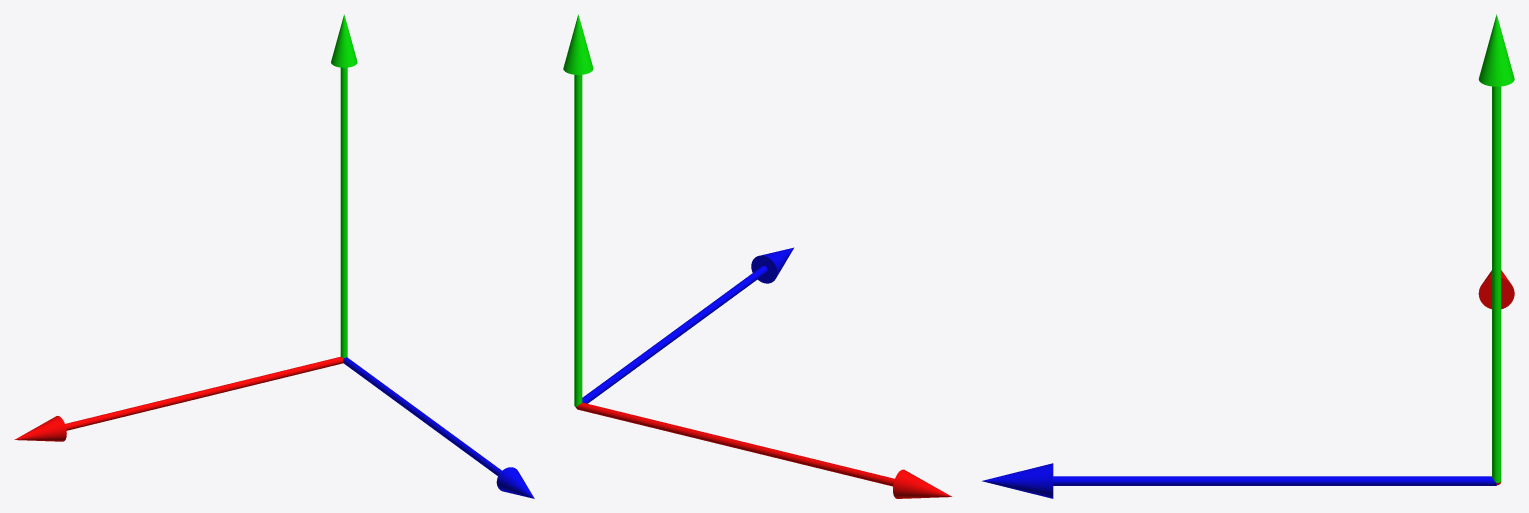
The model's file is XYZ.fbx.
3 views of the same model, side by side, from view 1: azimuth 30°, elevation 25°; view 2: azimuth 150°, elevation 25°; view 3: azimuth 270°, elevation 25° (orthographic). The views are drawn at different scales.
Visible parts, largest first — view 1: Y, X, Z; view 2: Y, X, Z; view 3: Z, Y, X.
Part boxes in pixels (x1=…): Y: x1=331, y1=14, x2=357, y2=358; X: x1=14, y1=356, x2=343, y2=441; Z: x1=343, y1=357, x2=534, y2=498; Y: x1=563, y1=14, x2=593, y2=406; X: x1=576, y1=402, x2=951, y2=498; Z: x1=575, y1=247, x2=793, y2=407; Z: x1=982, y1=463, x2=1496, y2=498; Y: x1=1478, y1=14, x2=1514, y2=482; X: x1=1478, y1=270, x2=1514, y2=485.
Bounding box in the file's own units: 222 × 222 × 222.
